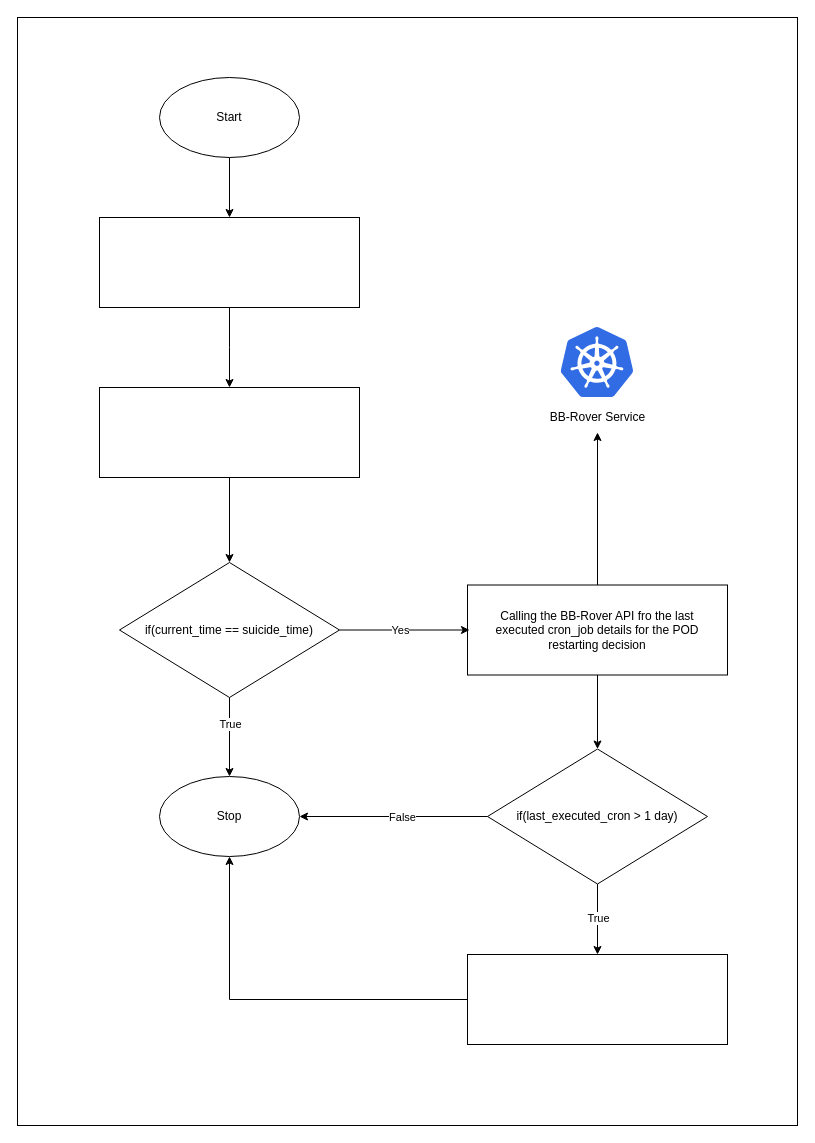
Image size: 815x1143. Some labels were removed from this diagram. The box of each missing label's shape, as (x1, y1, x2, y2) in pixels:
Executing bash script from the pod health check: (98, 216, 360, 308)
Getting the current time in the bash script: (98, 386, 360, 478)
POD restarting: (466, 954, 728, 1044)
